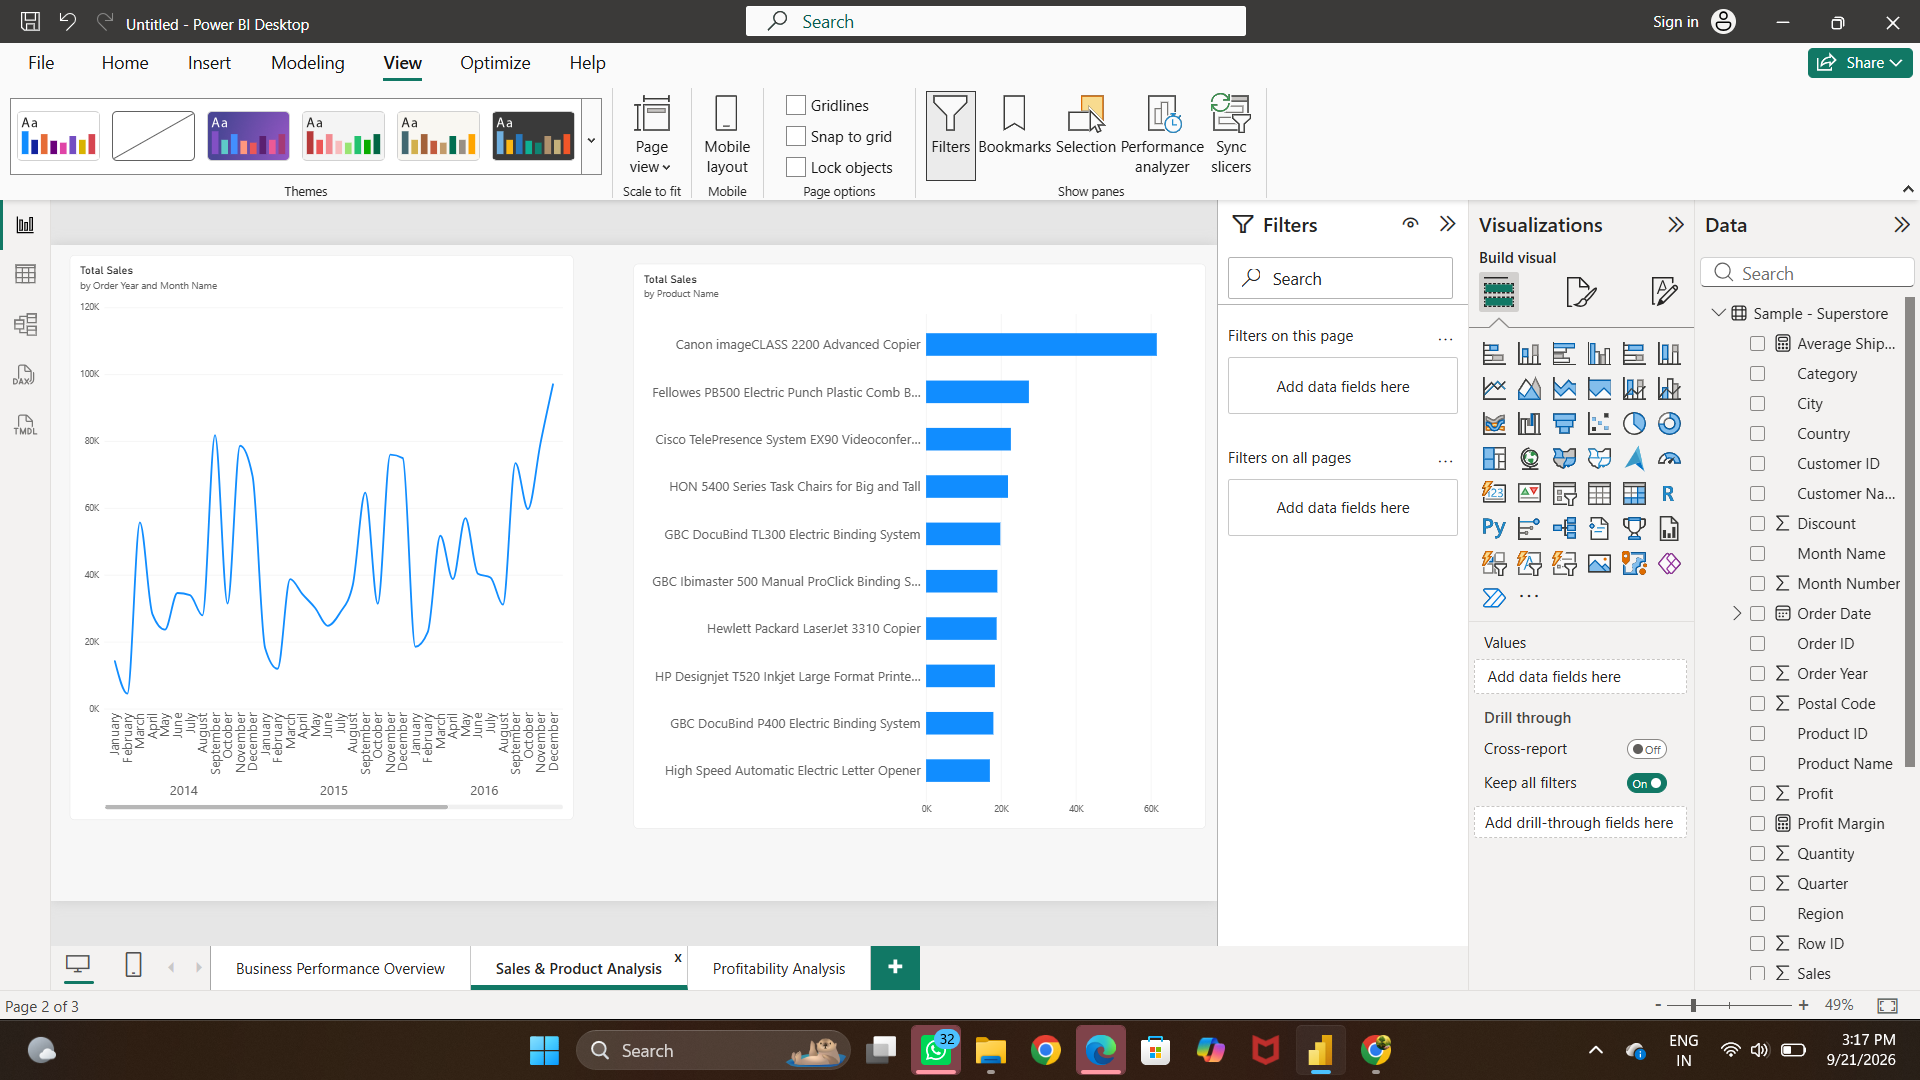

The page's visual inventory and layout, read from the dashboard file:
{"tool":"powerbi","page":{"name":"Sales & Product Analysis","canvas":[1920,1080],"ordinal":1},"visuals":[{"type":"lineChart","fields":{"Y":["Sample - Superstore.Total Sales"],"Category":["Sample - Superstore.Year","Sample - Superstore.Month Name"]},"box":[30.9,16.5,829.5,930.4],"z":0},{"type":"clusteredBarChart","fields":{"Y":["Sample - Superstore.Total Sales"],"Category":["Sample - Superstore.Product Name"]},"box":[959.2,30.9,942.7,930.4],"z":1000}]}

Visuals, with their boxes on the page's 1920x1080 design canvas (x1, y1, x2, y2). These are canvas units, not pixel positions in the 1920x1080 screenshot, which may show the page scaled, cropped or inside an application window:
lineChart - Sample - Superstore.Total Sales x Sample - Superstore.Year: [x1=31, y1=16, x2=860, y2=947]
clusteredBarChart - Sample - Superstore.Total Sales x Sample - Superstore.Product Name: [x1=959, y1=31, x2=1902, y2=961]
